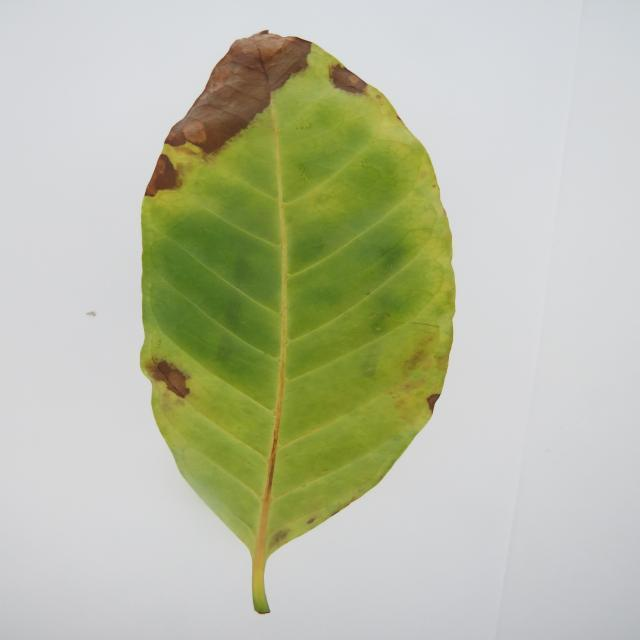DeficienciaNutricional-Potasio: (142, 31, 455, 614)
